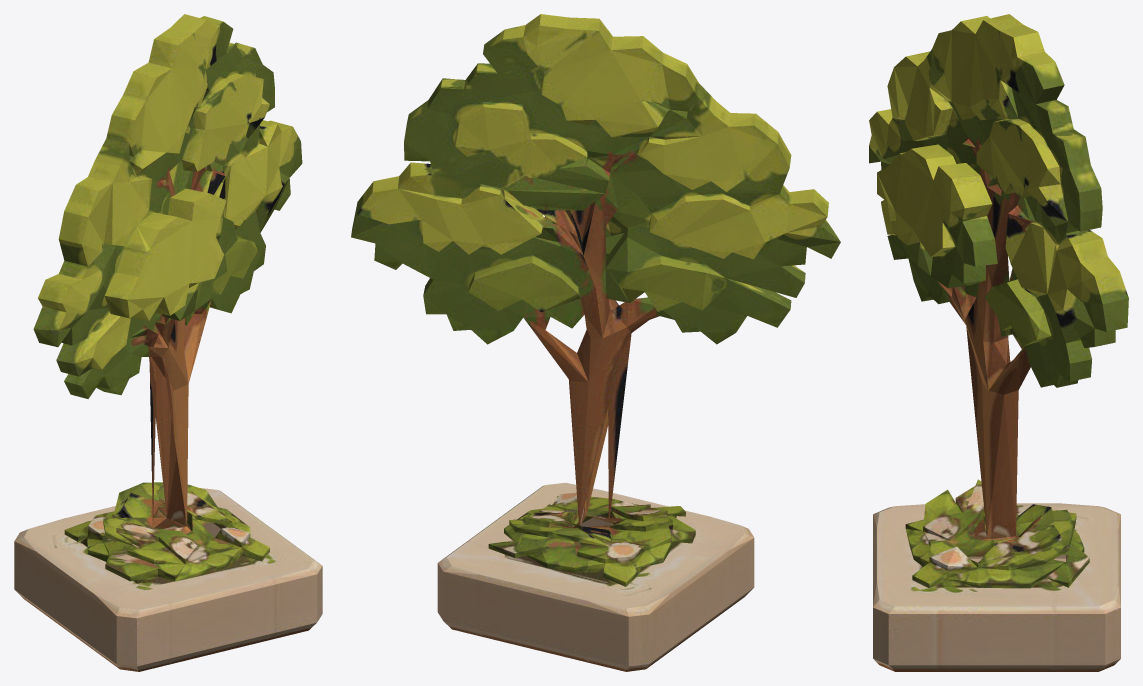
The model's file is streettree-C88ylV3s.glb.
3 views of the same model, side by side, from view 1: azimuth 30°, elevation 25°; view 2: azimuth 150°, elevation 25°; view 3: azimuth 270°, elevation 25° (orthographic). The views are drawn at different scales.
Parts seen in each view (by area): view 1: tripo_node_444840cf-6cdb-42ba-9215-3e707691e8a3; view 2: tripo_node_444840cf-6cdb-42ba-9215-3e707691e8a3; view 3: tripo_node_444840cf-6cdb-42ba-9215-3e707691e8a3.
Boxes of the visible parts, x1,y1,x2,y2 form: tripo_node_444840cf-6cdb-42ba-9215-3e707691e8a3: (14,14,322,671); tripo_node_444840cf-6cdb-42ba-9215-3e707691e8a3: (351,14,840,671); tripo_node_444840cf-6cdb-42ba-9215-3e707691e8a3: (869,14,1128,671).
Bounding box in the file's own units: 0.6645 × 0.9786 × 0.3792.
1 material, 1 textured.
